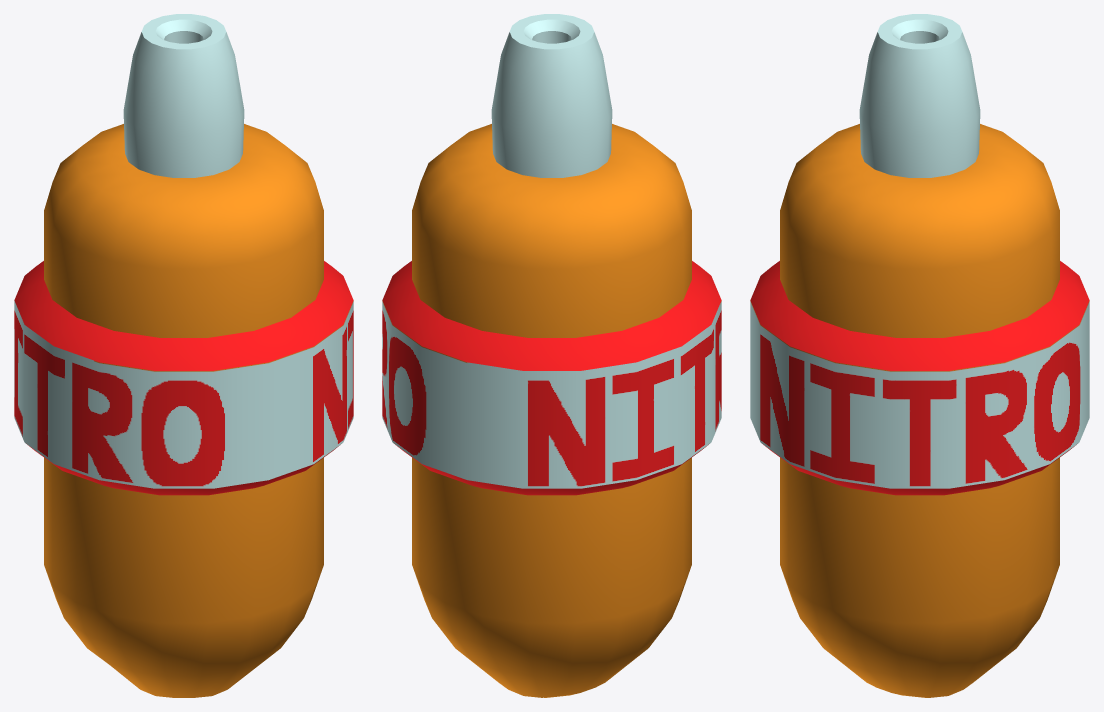
File: nitro.fbx
3 views of the same model, side by side, from view 1: azimuth 30°, elevation 25°; view 2: azimuth 150°, elevation 25°; view 3: azimuth 270°, elevation 25° (orthographic).
Visible parts, largest first — view 1: NitroPill; view 2: NitroPill; view 3: NitroPill.
Part boxes in pixels (x1=…): NitroPill: x1=14, y1=14, x2=353, y2=697; NitroPill: x1=382, y1=14, x2=721, y2=697; NitroPill: x1=750, y1=14, x2=1089, y2=697.
Size of the model in its own units: 239 by 518 by 242.
Materials: 1 (1 with a texture image).
